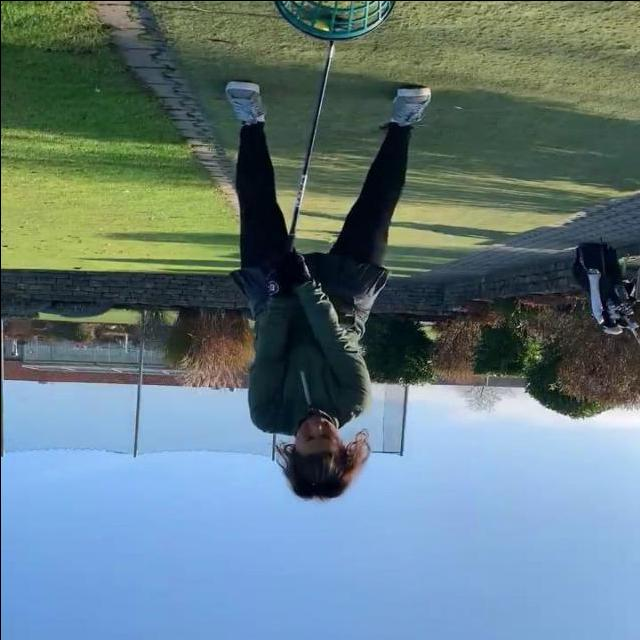ClubHandle: (280, 33, 360, 259)
GolfBall: (309, 19, 327, 33)
